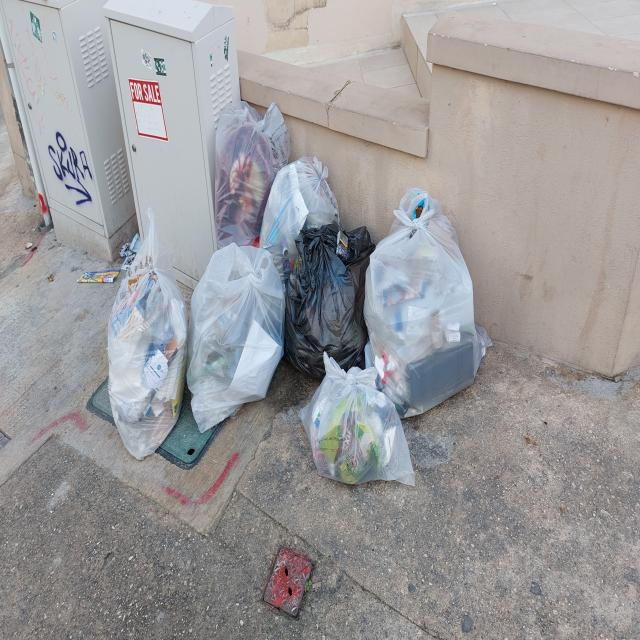Mixed Waste -Black Bag-: (287, 223, 377, 382)
Recycled Waste -Grey or Green Bag-: (365, 188, 495, 420), (109, 206, 190, 462), (187, 243, 287, 433), (300, 352, 415, 497), (216, 102, 292, 252), (261, 157, 341, 276)
